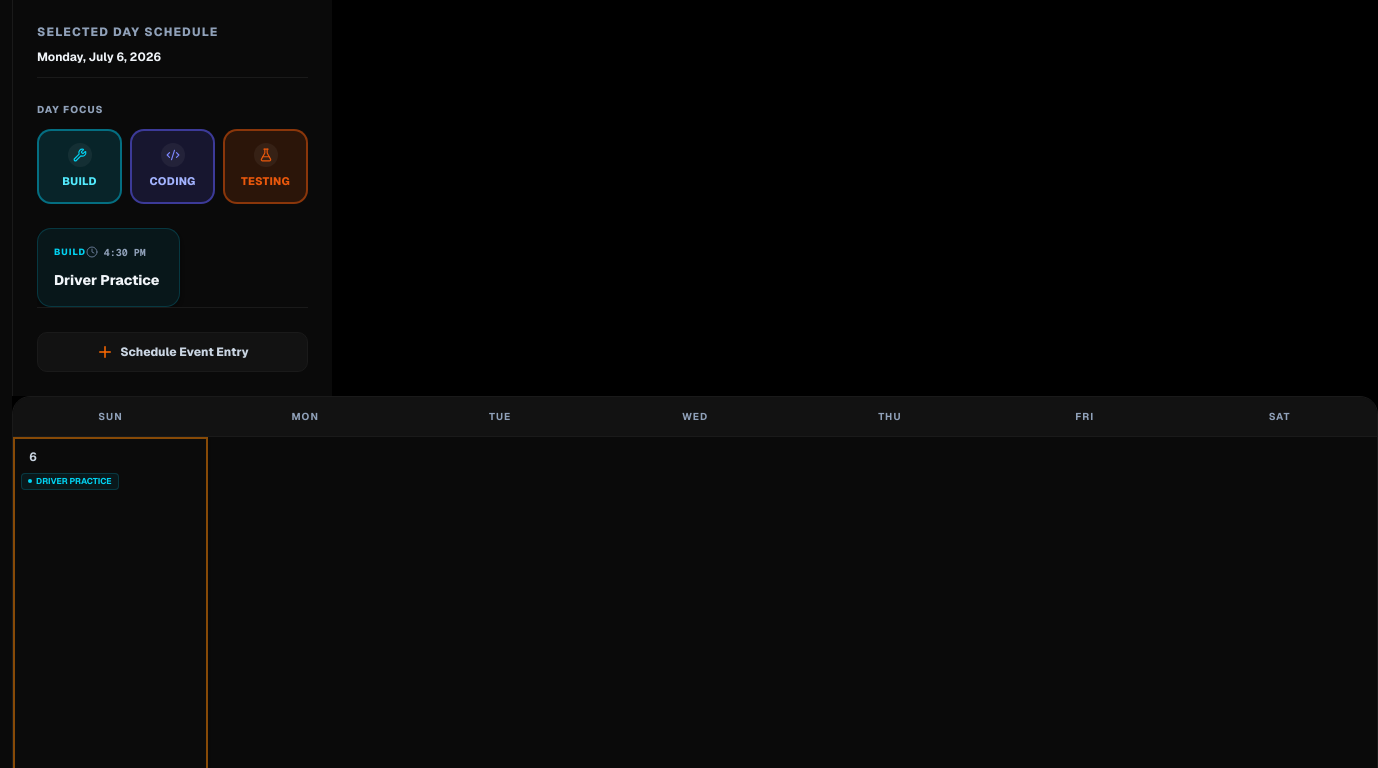
calendar day plans UI › shows a Build icon on the month cell after setting Build
Step 1. Click the button "Build" → click(80, 166), box [37,129,122,204]
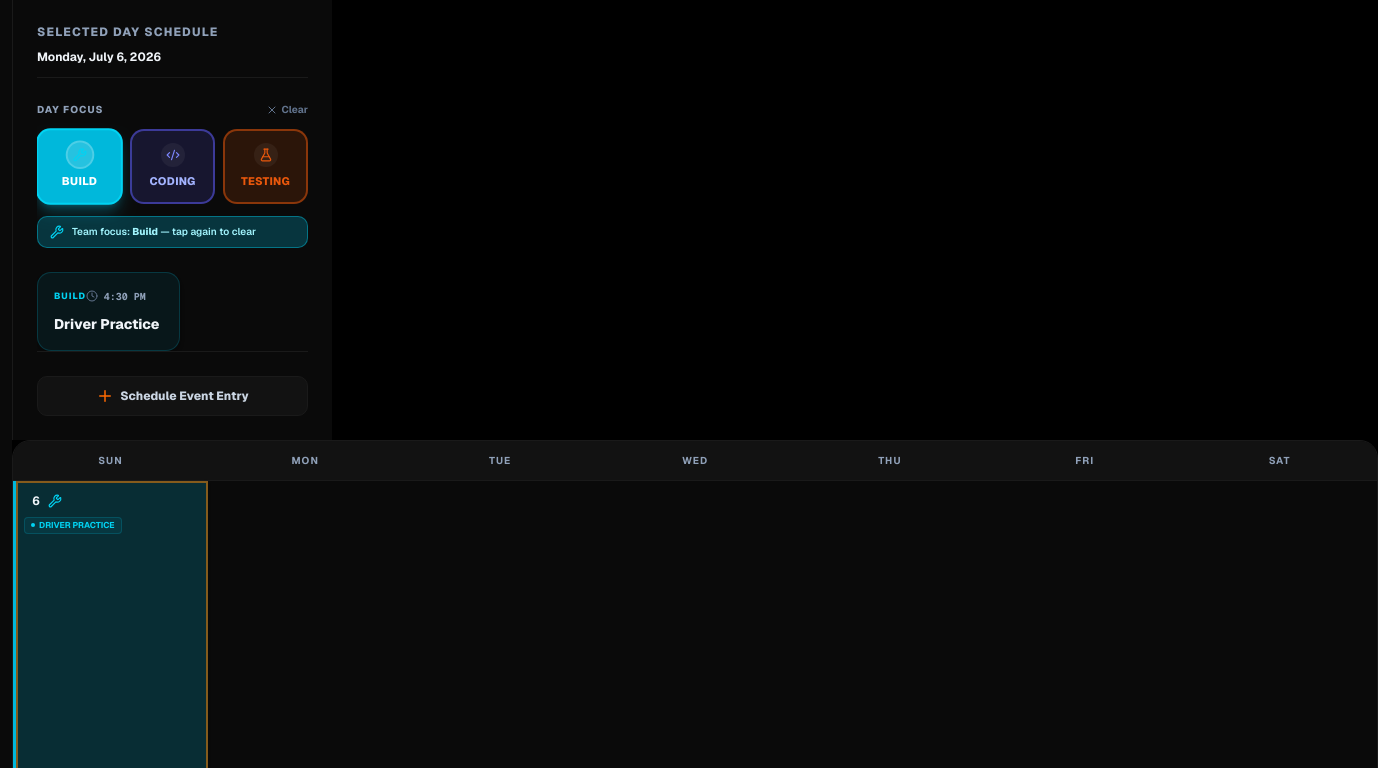
Expected: the text "Driver Practice" is shown, [54,314,164,334]
Expected: the picture named "Build" is shown, [48,494,62,508]
